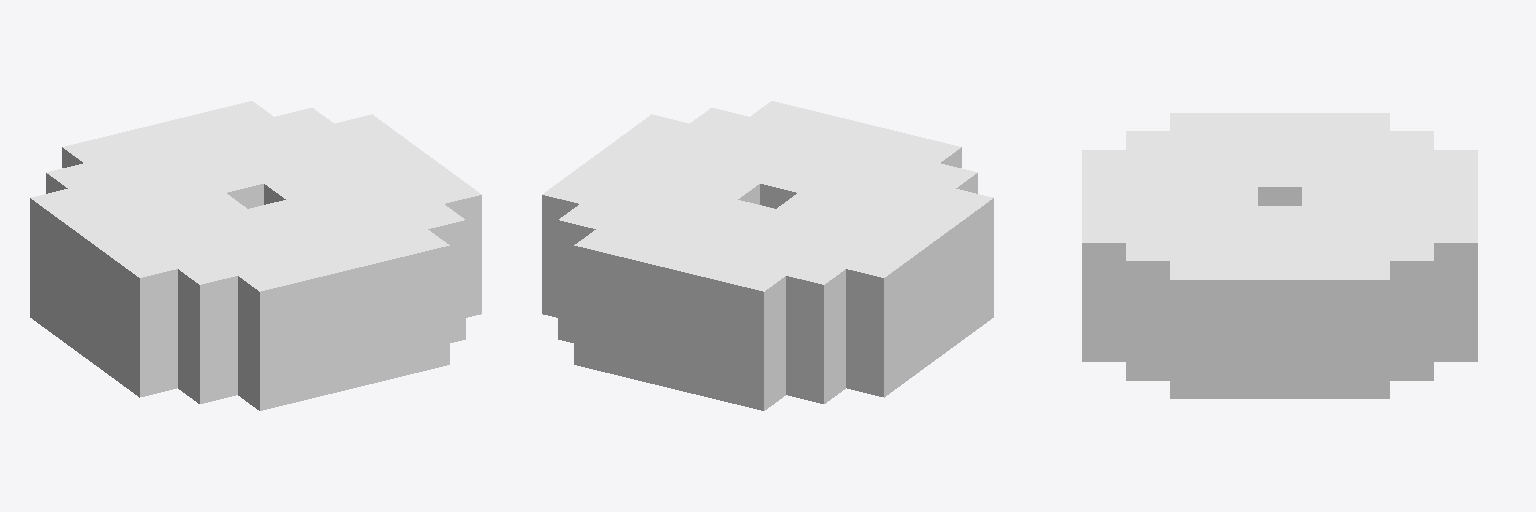
Rendered from Eruption-22.obj.
3 views of the same model, side by side, from view 1: azimuth 30°, elevation 25°; view 2: azimuth 150°, elevation 25°; view 3: azimuth 270°, elevation 25° (orthographic).
Visible parts, largest first — view 1: object 1; view 2: object 1; view 3: object 1.
Boxes of the visible parts, box(x1,y1,x2,y2) form: object 1: box(30, 101, 481, 410); object 1: box(542, 101, 993, 410); object 1: box(1082, 113, 1477, 398).
Size of the model in its own units: 0.9 by 0.3 by 0.9.